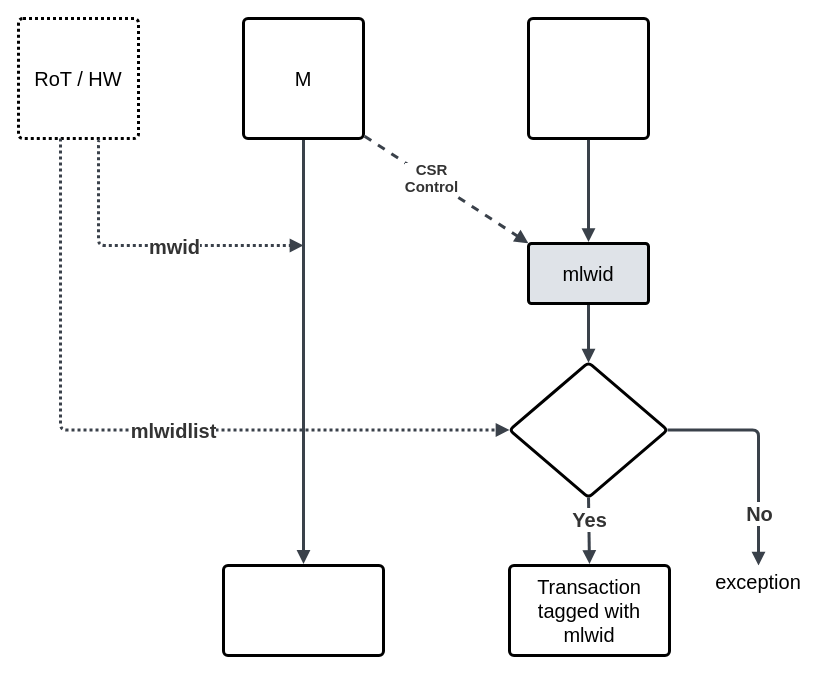
Some shapes in this 826 by 674 pixel diagram are drawn without their labels. The centre of each missing label's shape, as x and y in pixels:
lower privilege modes: [588,78]
set in mlwidlist?: [588,429]
Transaction tagged with mwid: [303,610]
